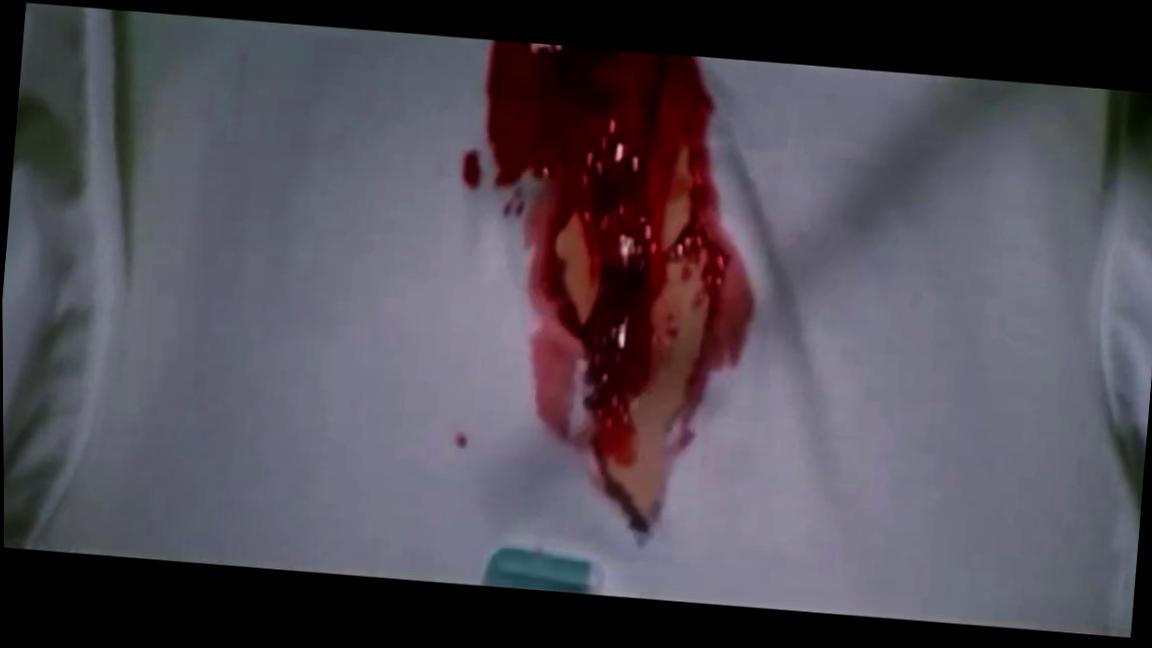Fire: (488, 42, 753, 538)
